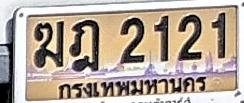1: (154, 15, 168, 62), (211, 12, 225, 58)
2: (119, 17, 145, 64), (178, 14, 202, 60)
A06: (34, 21, 64, 68)
A14: (70, 20, 100, 72)
BKK: (53, 75, 210, 99)
